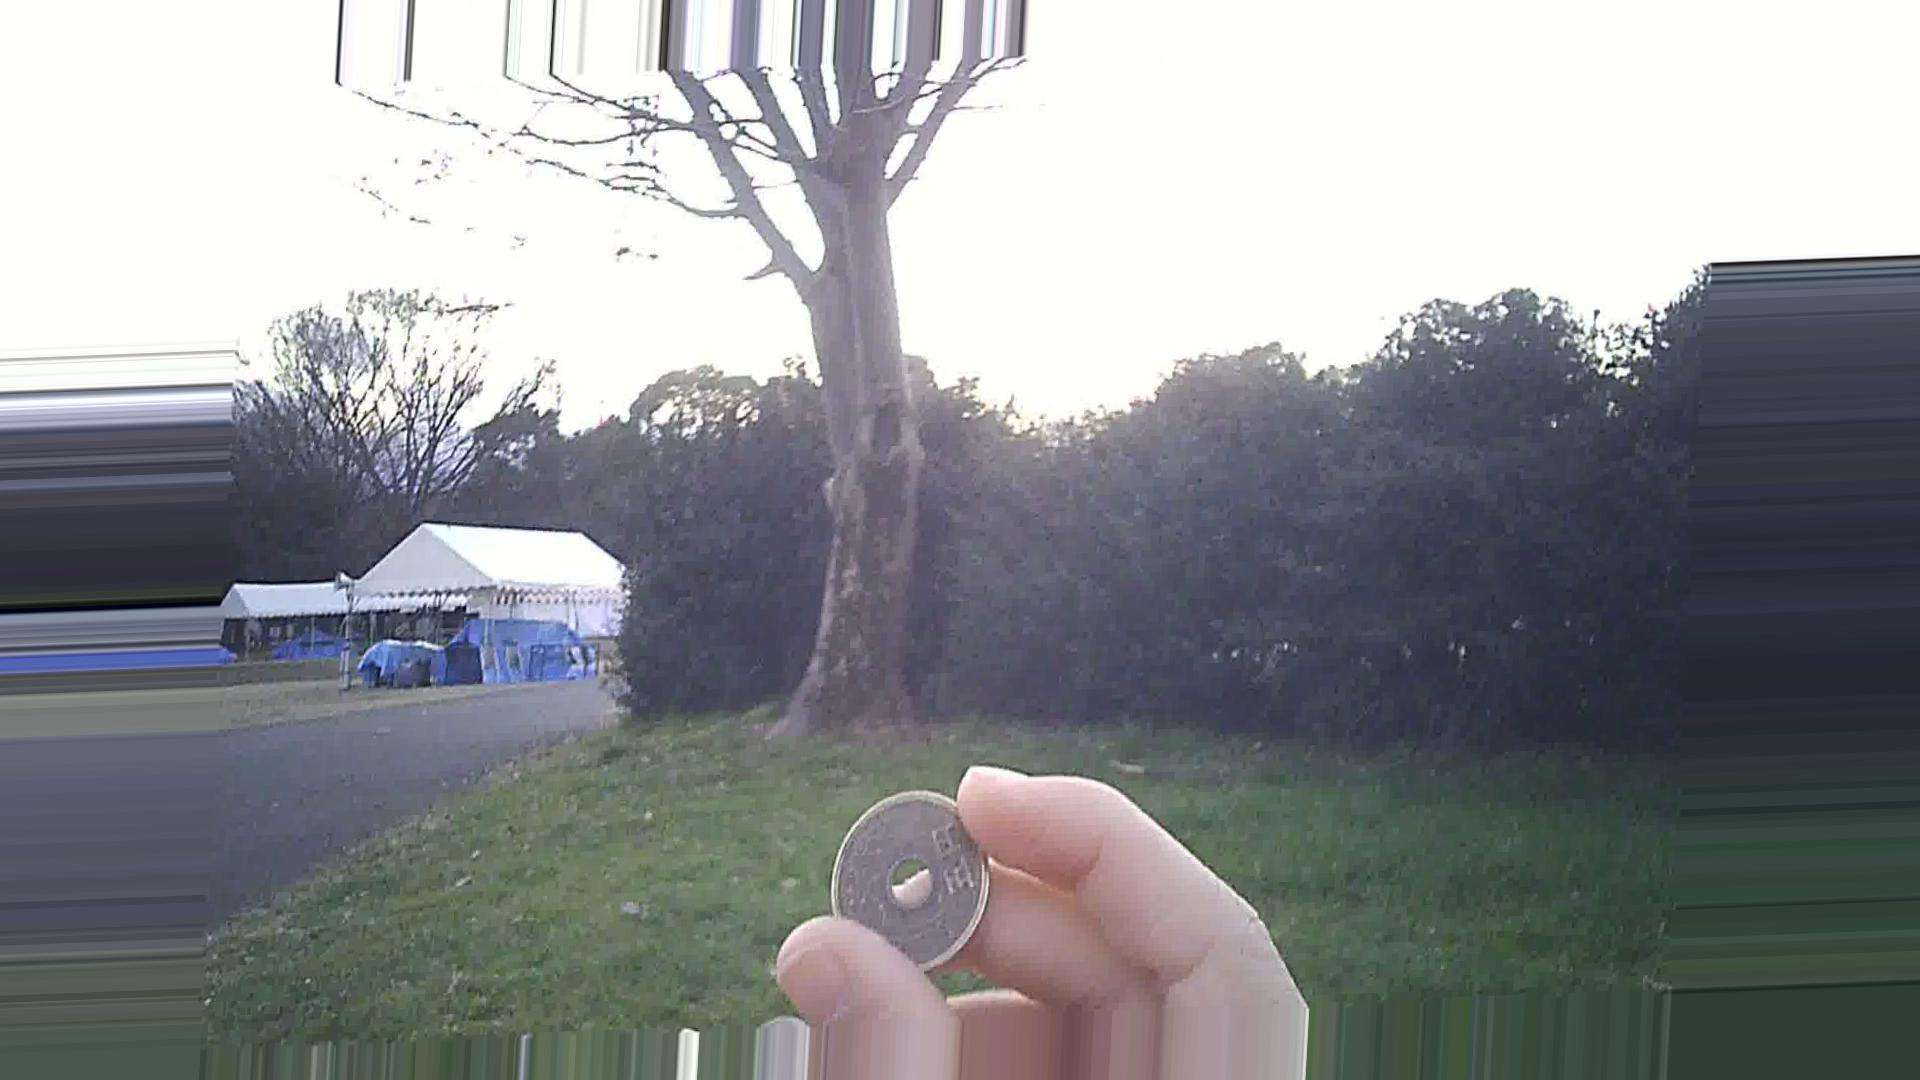5 Yen: (814, 785, 1009, 981)
